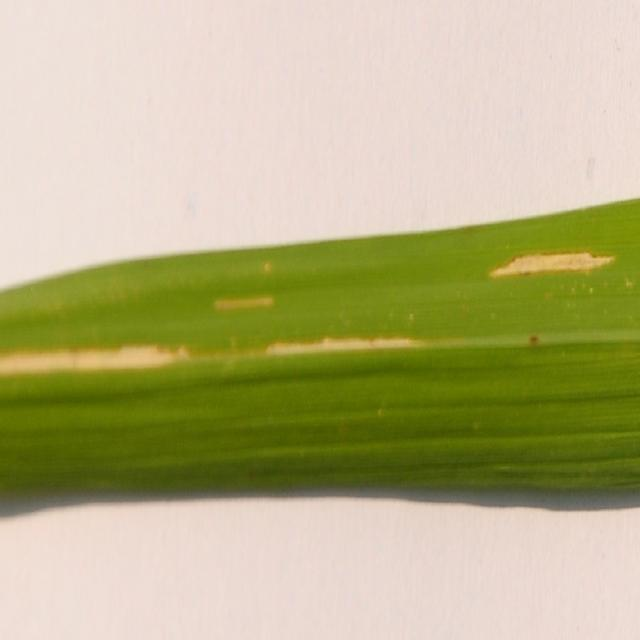leaf blight: (0, 335, 429, 362), (489, 239, 618, 301), (210, 287, 278, 316), (402, 300, 421, 336), (260, 254, 276, 283)
